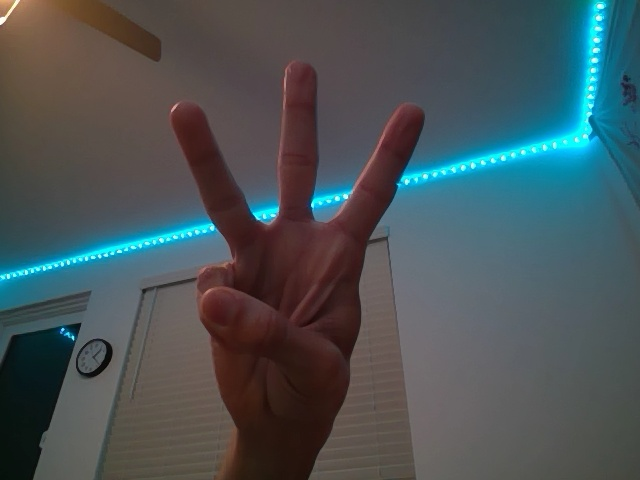w: (164, 56, 426, 474)
